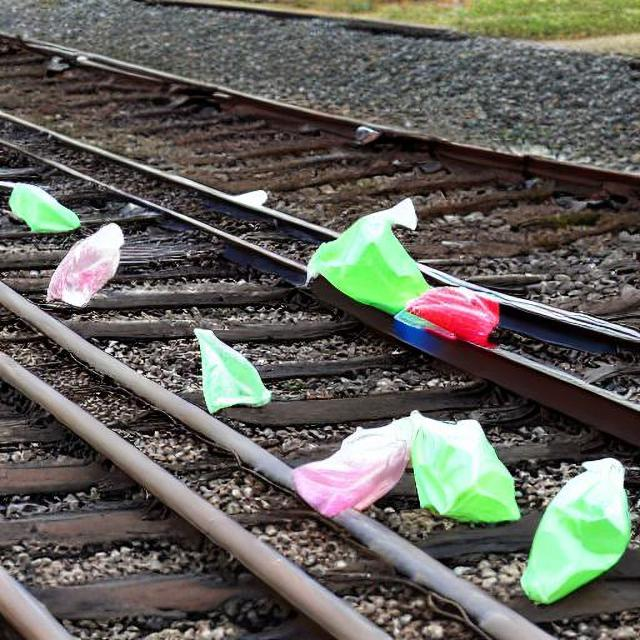plastic bag: (277, 174, 447, 342), (278, 404, 436, 534), (518, 461, 630, 606), (396, 263, 512, 374), (409, 418, 519, 526), (39, 206, 132, 333), (196, 326, 267, 411), (5, 180, 78, 232), (216, 173, 276, 220)
